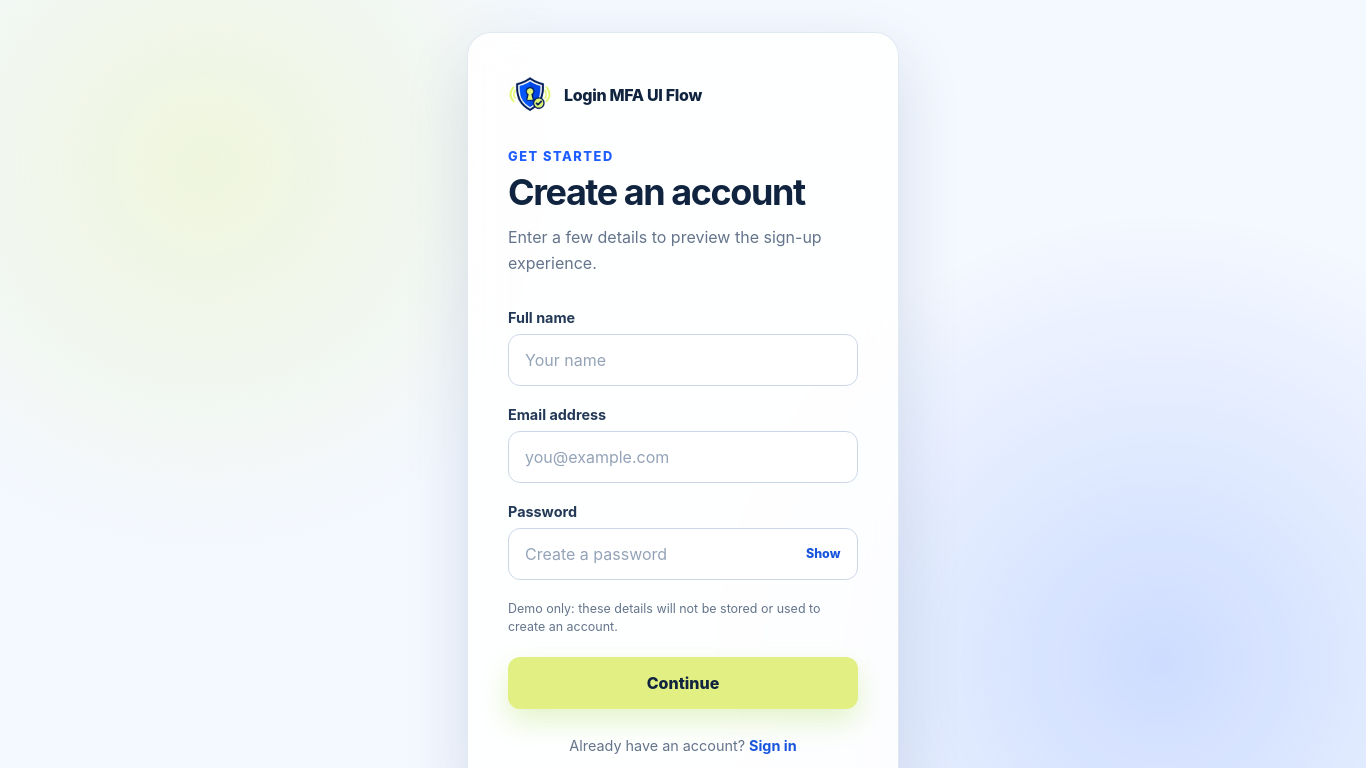
Test case: application authentication flow › recovers when the Sign Up request unexpectedly fails
This screenshot has width=1366, height=768.
Type "Sample User" into the field labelled "Full name" at (683, 360), box [508, 334, 858, 386]
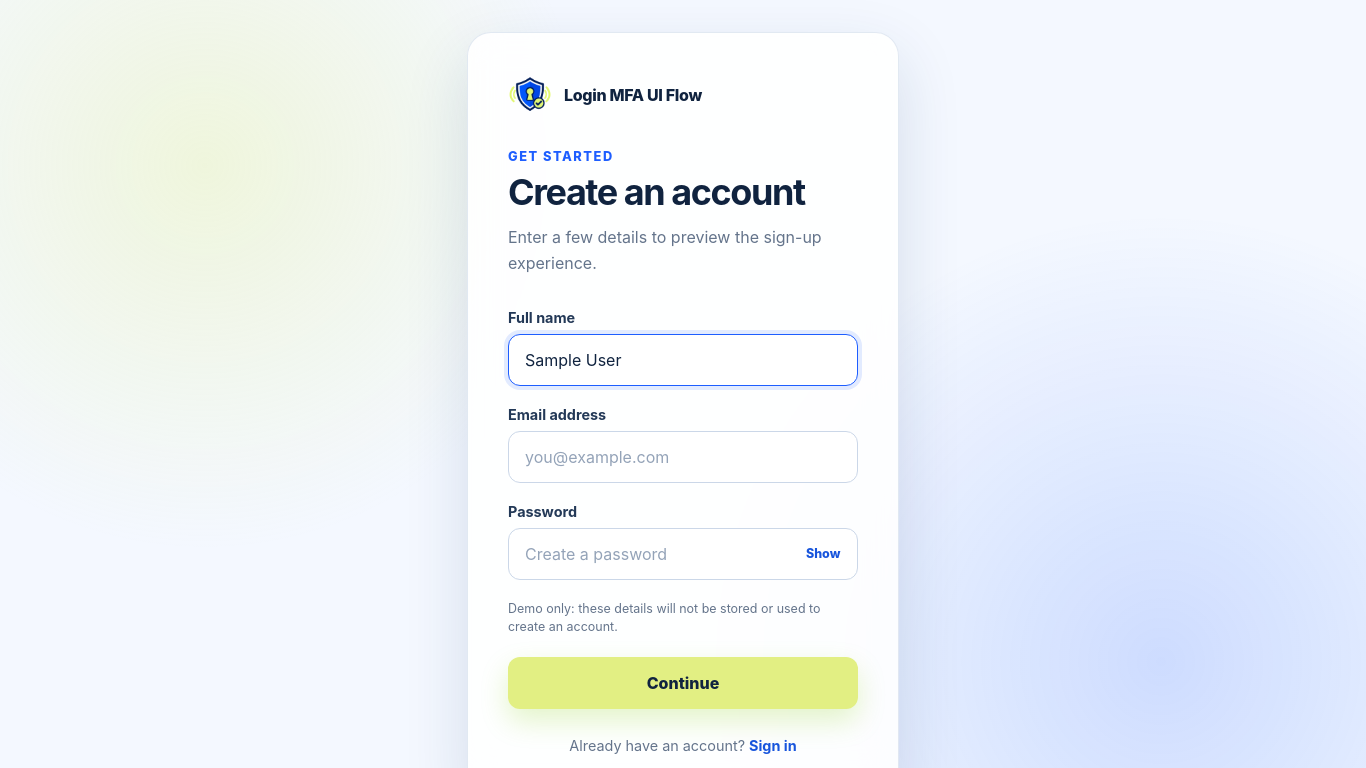
Type "sample@example.com" into the field labelled "Email address" at (683, 457), box [508, 431, 858, 483]
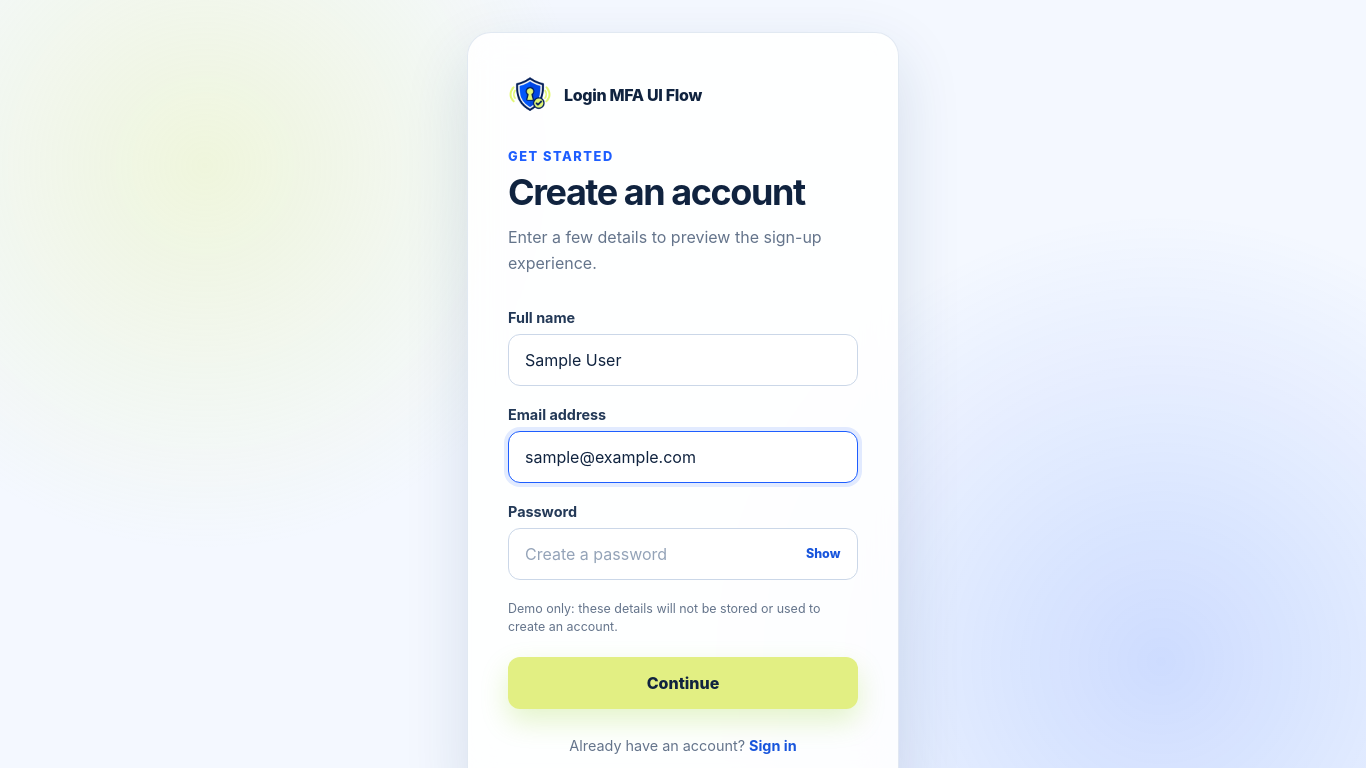
Type "Password123!" into the password field labelled "Password" at (683, 554), box [508, 528, 858, 580]
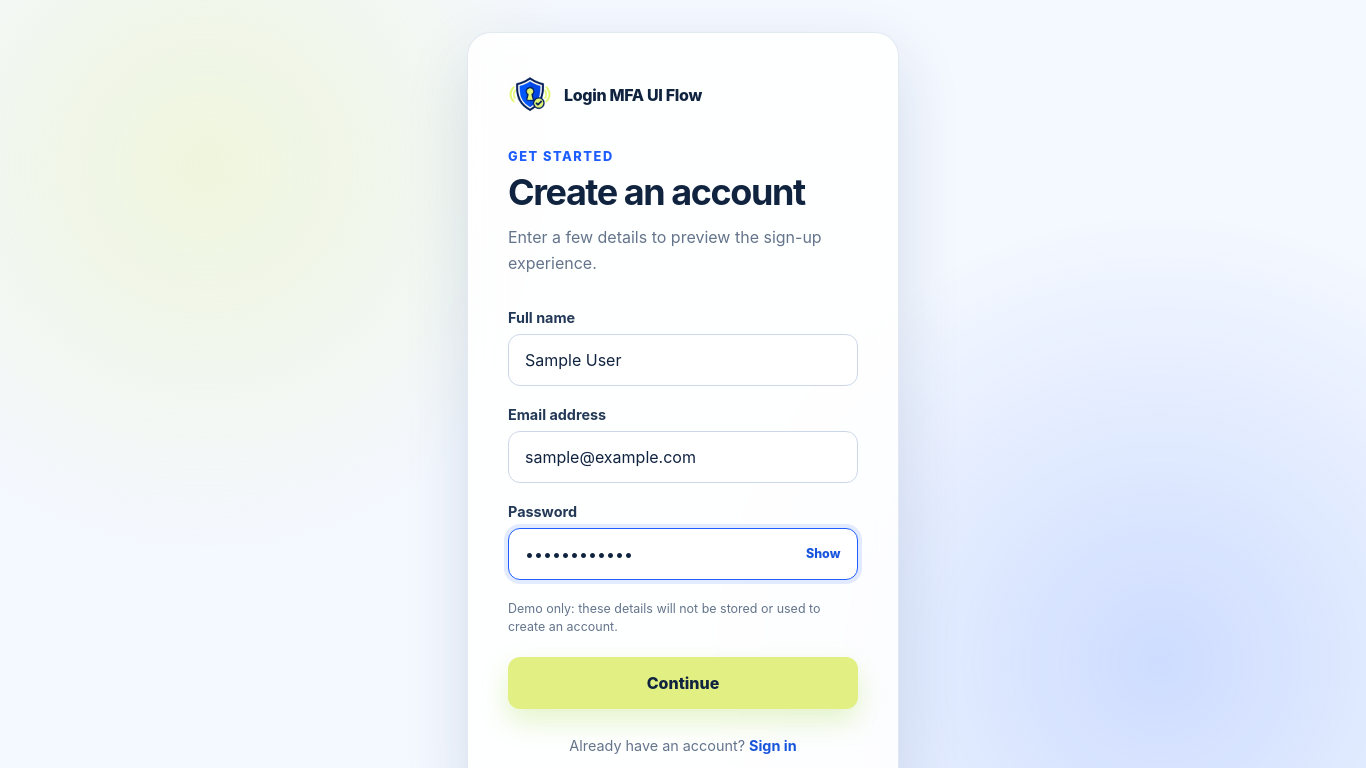
Click the button "Continue" at (683, 683), box [508, 657, 858, 709]
(page scrolled)
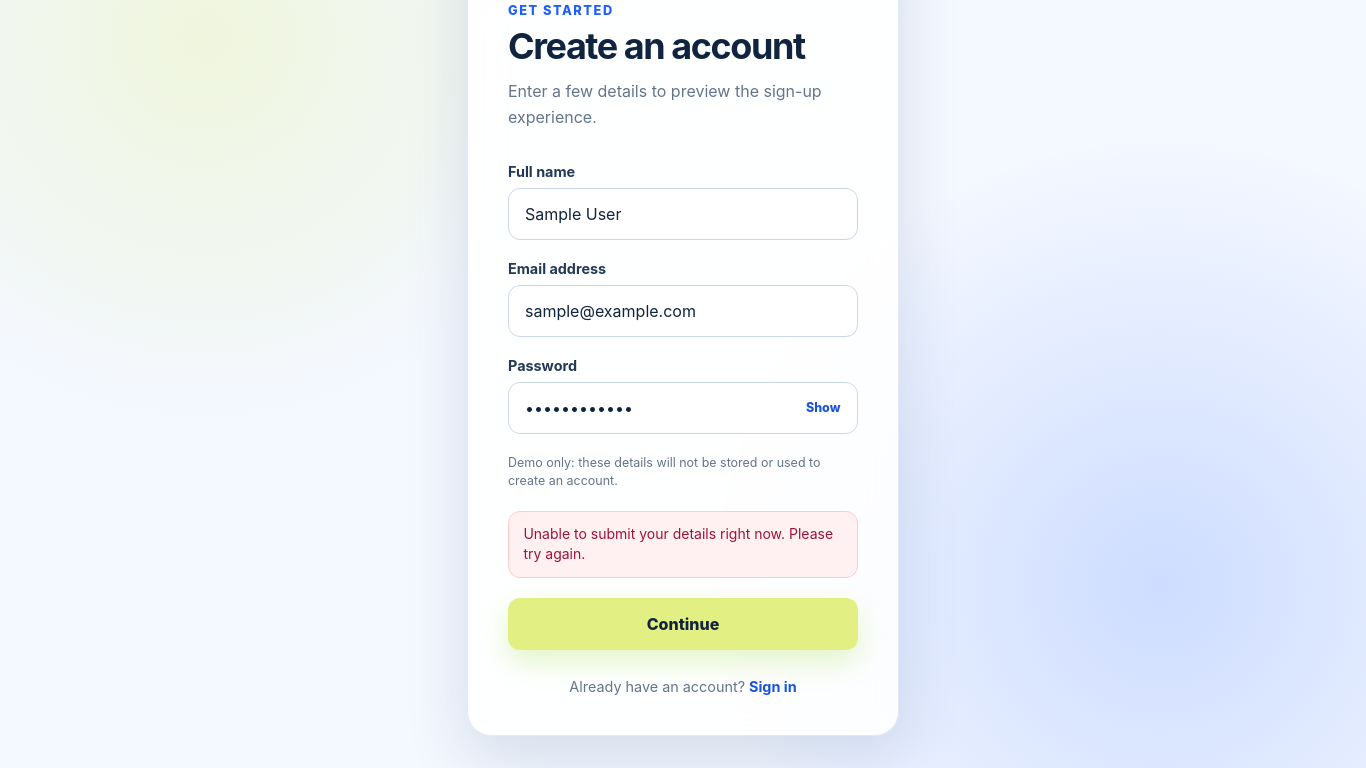
Expected: the button "Continue" is enabled, [508, 598, 858, 650]
Now the text "Unable to submit your details right now. Please try again." is shown, box [508, 511, 858, 578]
